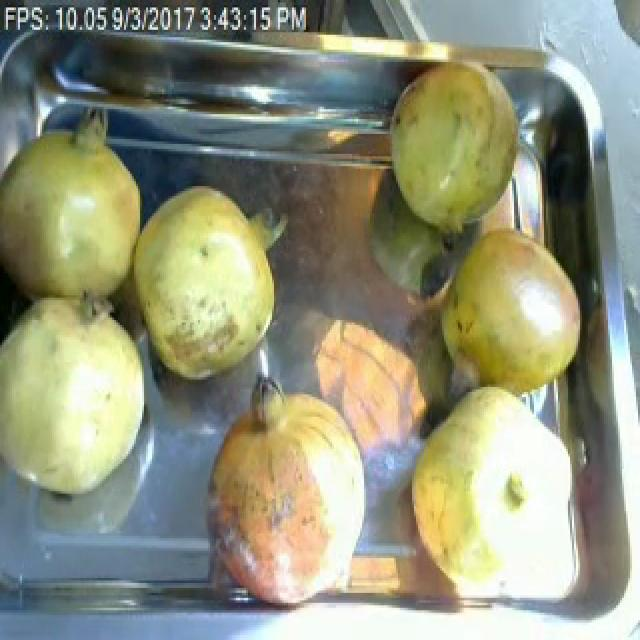fruit: (192, 387, 382, 623), (396, 367, 584, 598), (120, 171, 302, 402), (0, 278, 170, 516), (0, 106, 160, 328), (422, 211, 592, 412), (378, 50, 532, 258)
